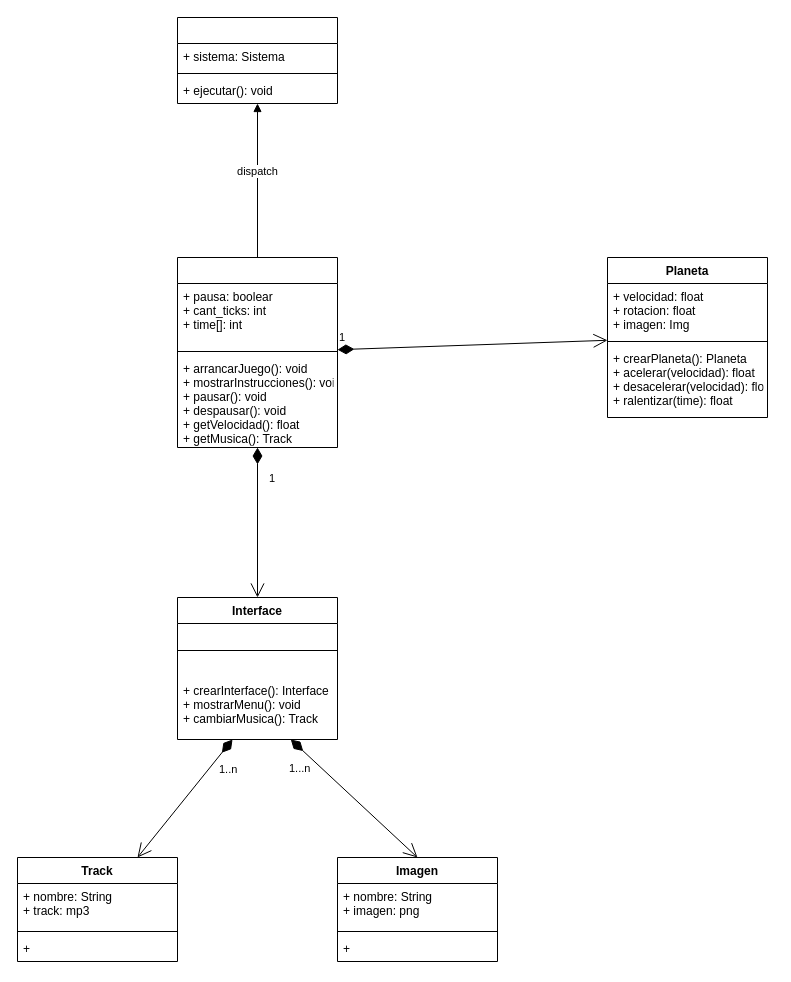
Image size: 791x982. Some labels were removed from this diagram. The shapes that lost their labels are listed below. From the top down, each one's box as (x1, y1, x2, y2) in pixels, then its label:
(176, 16, 338, 104): Main
(176, 256, 338, 448): Sistema
